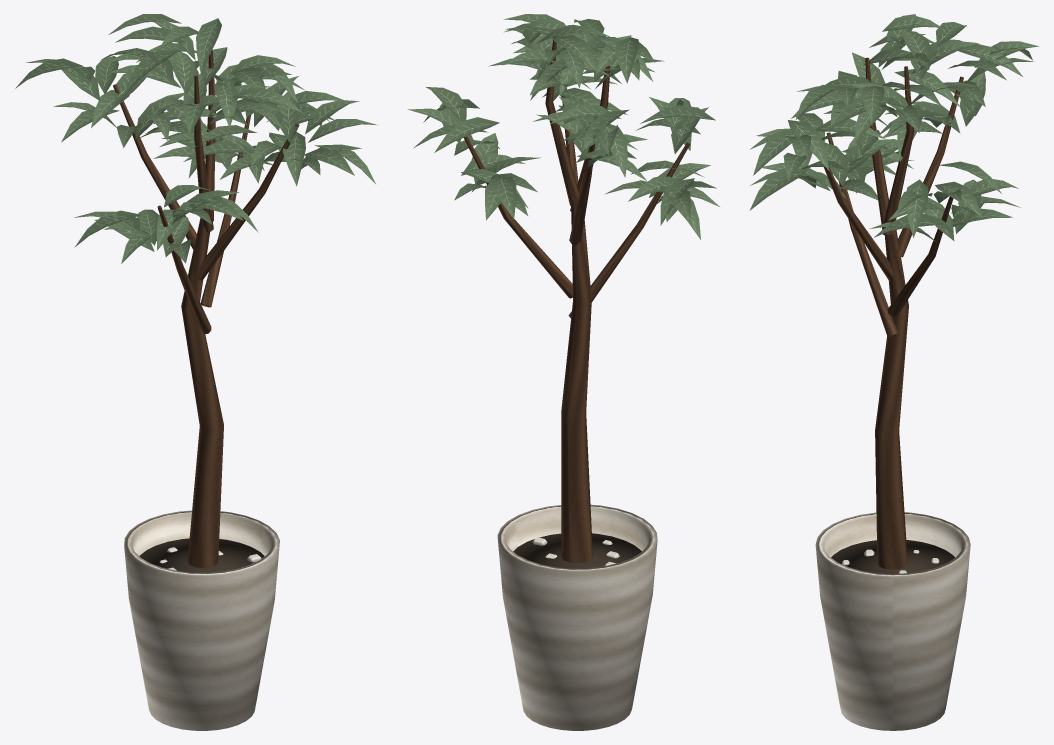
Rendered from obj_decor_olive_tree.glb.
3 renders of one model, left to right at view 1: azimuth 30°, elevation 25°; view 2: azimuth 150°, elevation 25°; view 3: azimuth 270°, elevation 25°, orthographic. The views are drawn at different scales.
Visible parts, largest first — view 1: obj_decor_olive_tree; view 2: obj_decor_olive_tree; view 3: obj_decor_olive_tree.
Part boxes in pixels (x1,y1,x2,y2): obj_decor_olive_tree: (15, 14, 376, 730); obj_decor_olive_tree: (407, 14, 719, 730); obj_decor_olive_tree: (749, 14, 1038, 730).
Bounding box in the file's own units: 0.7192 × 1.71 × 0.6742.
5 materials, 3 textured.
